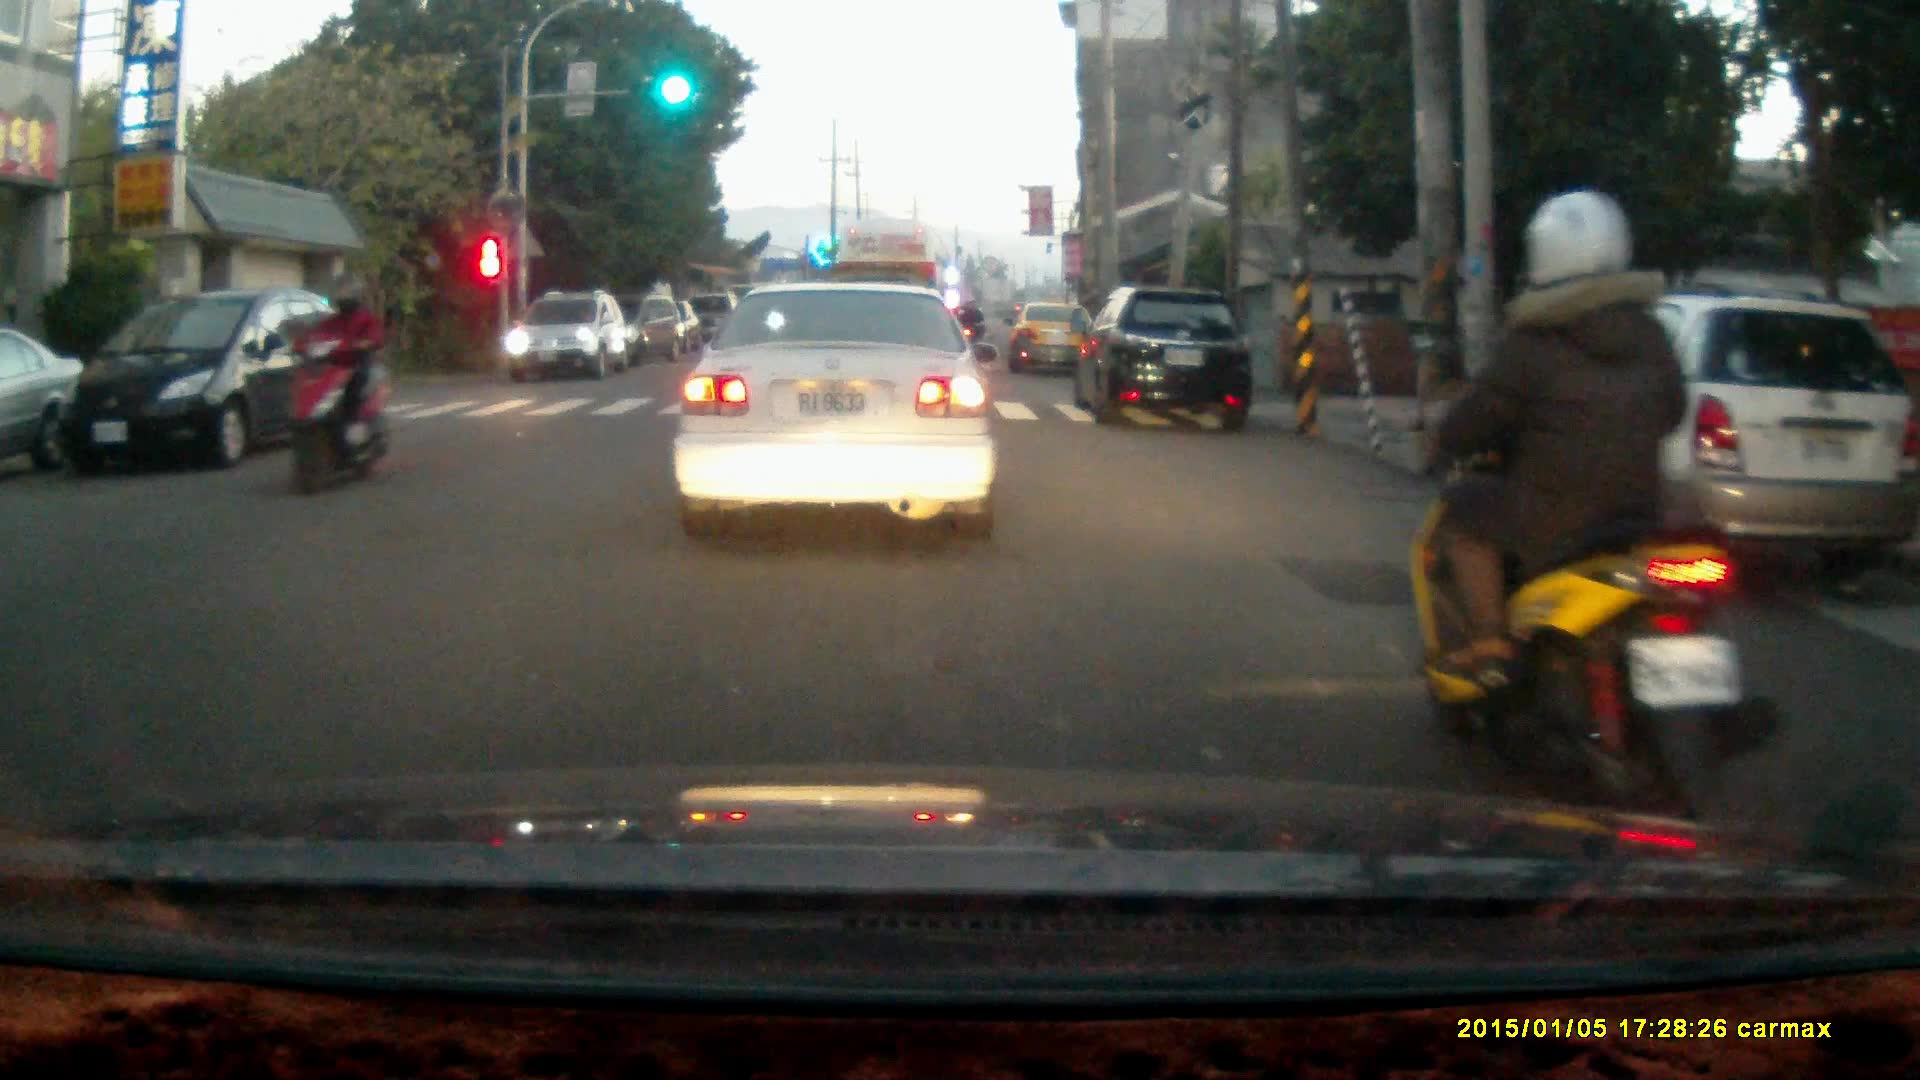rider: (1403, 187, 1781, 857), (281, 268, 386, 492)
vehicle: (1459, 293, 1920, 574), (677, 277, 999, 542), (56, 285, 378, 473), (1082, 283, 1248, 426), (830, 213, 947, 363), (0, 322, 86, 479), (505, 293, 632, 381), (1008, 300, 1105, 378)
